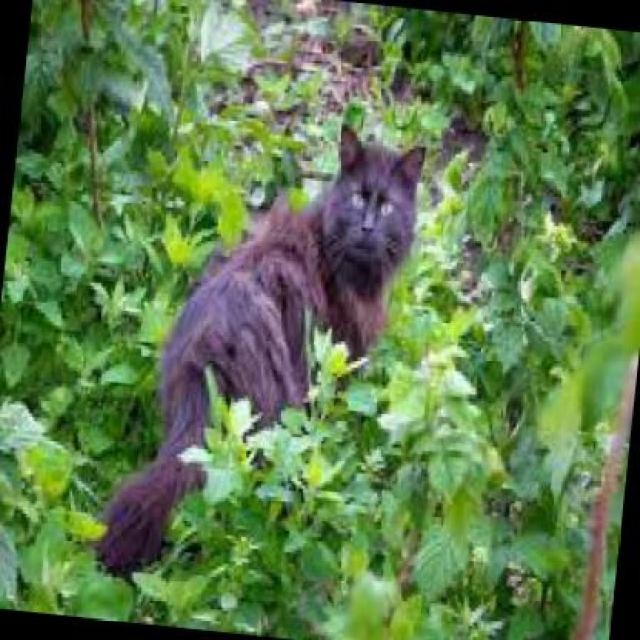animals: (96, 99, 444, 592)
